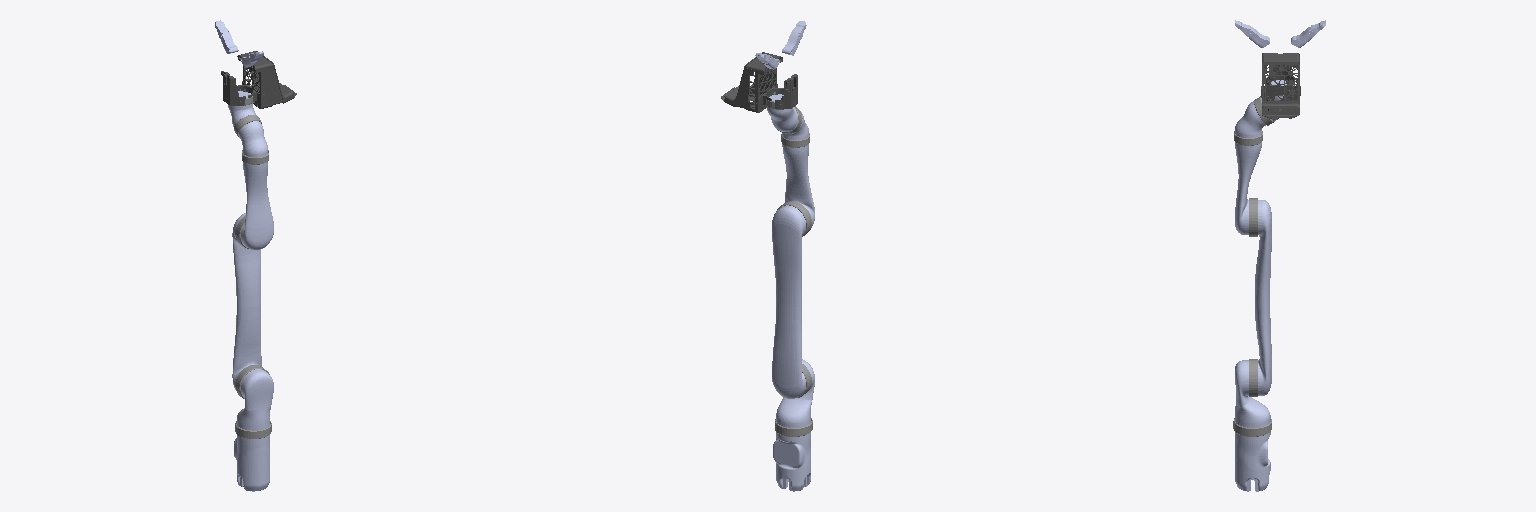
--- What the picture shows (computed from the rendered views, not written in the file) ---
Views: 3 orthographic renders of the robot side by side, from view 1: azimuth 30°, elevation 25°; view 2: azimuth 150°, elevation 25°; view 3: azimuth 270°, elevation 25°.
Robot: ada — 26 links, 25 joints (5 revolute, 4 continuous, 16 fixed); root link root; default pose: joints at zero except 2 at the middle of their limits (j2n6s200_joint_2 = 3.14, j2n6s200_joint_3 = 3.14).
Links seen in each view (by area): view 1: j2n6s200_link_2, j2n6s200_link_3, j2n6s200_link_1, j2n6s200_link_base, j2n6s200_link_4, enclosureBottom, j2n6s200_link_5; view 2: j2n6s200_link_2, j2n6s200_link_base, j2n6s200_link_3, j2n6s200_link_1, j2n6s200_link_5, enclosureTop, enclosureBottom, FTArmMount; view 3: j2n6s200_link_2, j2n6s200_link_base, j2n6s200_link_1, j2n6s200_link_3, j2n6s200_link_4, enclosureBottom, cameraMount, enclosureTop.
Boxes of the visible links, x1,y1,x2,y2 form: j2n6s200_link_2: (232,213,269,398); j2n6s200_link_3: (235,162,273,249); j2n6s200_link_1: (235,369,273,438); j2n6s200_link_base: (234,435,269,491); j2n6s200_link_4: (238,121,268,164); enclosureBottom: (243,51,272,108); j2n6s200_link_5: (228,91,261,136); j2n6s200_link_2: (772,205,811,398); j2n6s200_link_base: (773,432,810,491); j2n6s200_link_3: (777,144,814,236); j2n6s200_link_1: (775,359,814,436); j2n6s200_link_5: (767,94,802,133); enclosureTop: (734,52,772,109); enclosureBottom: (746,52,776,112); FTArmMount: (775,74,797,108); j2n6s200_link_2: (1249,200,1271,396); j2n6s200_link_base: (1235,432,1270,491); j2n6s200_link_1: (1233,360,1271,436); j2n6s200_link_3: (1235,142,1261,236); j2n6s200_link_4: (1234,101,1265,145); enclosureBottom: (1262,56,1299,100); cameraMount: (1262,101,1299,117); enclosureTop: (1262,62,1299,110).
Size in the robot's own frame: 0.1873 by 0.215 by 1.18 metres.
24 mesh visuals loaded from 19 distinct referenced files (7 binary STL, 9 Collada DAE); not drawn: 3 (reference not matched to a file when rendering).

robot.urdf — ada:
<?xml version="1.0" ?>
<!-- =================================================================================== -->
<!-- |    This document was autogenerated by xacro from src/ada_ros2/ada_description/urdf/ada.xacro | -->
<!-- |    EDITING THIS FILE BY HAND IS NOT RECOMMENDED                                 | -->
<!-- =================================================================================== -->
<robot name="ada" xmlns:body="http://playerstage.sourceforge.net/gazebo/xmlschema/#body" xmlns:controller="http://playerstage.sourceforge.net/gazebo/xmlschema/#controller" xmlns:gazebo="http://playerstage.sourceforge.net/gazebo/xmlschema/#gz" xmlns:geom="http://playerstage.sourceforge.net/gazebo/xmlschema/#geom" xmlns:interface="http://playerstage.sourceforge.net/gazebo/xmlschema/#interface" xmlns:joint="http://playerstage.sourceforge.net/gazebo/xmlschema/#joint" xmlns:model="http://playerstage.sourceforge.net/gazebo/xmlschema/#model" xmlns:physics="http://playerstage.sourceforge.net/gazebo/xmlschema/#physics" xmlns:renderable="http://playerstage.sourceforge.net/gazebo/xmlschema/#renderable" xmlns:rendering="http://playerstage.sourceforge.net/gazebo/xmlschema/#rendering" xmlns:sensor="http://playerstage.sourceforge.net/gazebo/xmlschema/#sensor" xmlns:xi="http://www.w3.org/2001/XInclude">
  <material name="aluminum">
    <color rgba="0.4 0.4 0.4 1"/>
  </material>
  <material name="plastic">
    <color rgba="0.1 0.1 0.1 1"/>
  </material>
  <!-- links      		mesh_no
   base           		0
   shoulder       		1
   arm            		2
   forearm        		3
   wrist          		4
   arm_mico       		5
   arm_half1 (7dof)		6
   arm_half2 (7dof)		7
   wrist_spherical_1  8
   wrist_spherical_2  9

   hand 3 finger  		55
   hand_2finger   		56
   finger_proximal		57
   finger_distal      58
-->
  <!-- links      		mesh_no
   base           		0
   shoulder       		1
   arm            		2
   forearm        		3
   wrist          		4
   arm_mico       		5
   arm_half1 (7dof)		6
   arm_half2 (7dof)		7
   wrist_spherical_1  8
   wrist_spherical_2  9

   hand 3 finger  		55
   hand_2finger   		56
   finger_proximal		57
   finger_distal      58
-->
  <link name="root"/>
  <link name="root_tilt"/>
  <joint name="robot_tilt" type="revolute">
    <origin rpy="0 0 0" xyz="0 0 0"/>
    <child link="root_tilt"/>
    <parent link="root"/>
    <axis xyz="-1 0 0"/>
    <!-- effort copied from j2n6s200 joint 2, velocity is max velocity the wheelchair can tilt,
    lower and upper limits generously encompass the range of the wheelchair's tilt-->
    <limit effort="80" lower="-3.141592653589793" upper="3.141592653589793" velocity="0.15"/>
    <dynamics damping="0.0" friction="0.0"/>
  </joint>
  <!-- ros_control plugin -->
  <gazebo>
    <plugin filename="libgazebo_ros_control.so" name="gazebo_ros_control">
      <robotNamespace>j2n6s200</robotNamespace>
      <robotSimType>gazebo_ros_control/DefaultRobotHWSim</robotSimType>
      <legacyModeNS>true</legacyModeNS>
    </plugin>
  </gazebo>
  <link name="j2n6s200_link_base">
    <visual>
      <geometry>
        <mesh filename="package://ada_description/meshes/base.dae"/>
      </geometry>
      <material name="carbon_fiber">
        <color rgba="0.792156862745098 0.819607843137255 0.933333333333333 1"/>
      </material>
    </visual>
    <collision>
      <geometry>
        <mesh filename="package://ada_description/meshes/base.dae"/>
      </geometry>
    </collision>
    <inertial>
      <mass value="0.46784"/>
      <origin rpy="0 0 0" xyz="0 0 0.1255"/>
      <inertia ixx="0.000951270861568" ixy="0" ixz="0" iyy="0.000951270861568" iyz="0" izz="0.00037427200000000004"/>
    </inertial>
  </link>
  <joint name="j2n6s200_joint_base" type="fixed">
    <parent link="root_tilt"/>
    <child link="j2n6s200_link_base"/>
    <axis xyz="0 0 0"/>
    <origin rpy="0 0 0" xyz="0 0 0"/>
    <dynamics damping="0.0" friction="0.0"/>
  </joint>
  <link name="j2n6s200_link_1">
    <visual>
      <geometry>
        <mesh filename="package://ada_description/meshes/shoulder.dae"/>
      </geometry>
      <material name="carbon_fiber">
        <color rgba="0.792156862745098 0.819607843137255 0.933333333333333 1"/>
      </material>
    </visual>
    <visual>
      <geometry>
        <mesh filename="package://ada_description/meshes/ring_big.dae"/>
      </geometry>
    </visual>
    <collision>
      <geometry>
        <mesh filename="package://ada_description/meshes/shoulder.dae"/>
      </geometry>
    </collision>
    <inertial>
      <mass value="0.7477"/>
      <origin xyz="0 -0.002 -0.0605"/>
      <inertia ixx="0.0015203172520400004" ixy="0" ixz="0" iyy="0.0015203172520400004" iyz="0" izz="0.00059816"/>
    </inertial>
  </link>
  <joint name="j2n6s200_joint_1" type="continuous">
    <parent link="j2n6s200_link_base"/>
    <child link="j2n6s200_link_1"/>
    <axis xyz="0 0 1"/>
    <limit effort="40" velocity="0.6283185307179586"/>
    <origin rpy="0 3.141592653589793 0" xyz="0 0 0.15675"/>
    <dynamics damping="0.0" friction="0.0"/>
  </joint>
  <transmission name="j2n6s200_joint_1_trans">
    <type>transmission_interface/SimpleTransmission</type>
    <joint name="j2n6s200_joint_1">
      <hardwareInterface>hardware_interface/EffortJointInterface</hardwareInterface>
    </joint>
    <actuator name="j2n6s200_joint_1_actuator">
      <hardwareInterface>hardware_interface/EffortJointInterface</hardwareInterface>
      <mechanicalReduction>160</mechanicalReduction>
    </actuator>
  </transmission>
  <!--For torque sensing in simulation-->
  <gazebo reference="j2n6s200_joint_1">
    <provideFeedback>true</provideFeedback>
  </gazebo>
  <gazebo>
    <plugin filename="libgazebo_ros_ft_sensor.so" name="ft_sensor">
      <updateRate>30.0</updateRate>
      <topicName>j2n6s200_joint_1_ft_sensor_topic</topicName>
      <jointName>j2n6s200_joint_1</jointName>
    </plugin>
  </gazebo>
  <link name="j2n6s200_link_2">
    <visual>
      <geometry>
        <mesh filename="package://ada_description/meshes/arm.dae"/>
      </geometry>
      <material name="carbon_fiber">
        <color rgba="0.792156862745098 0.819607843137255 0.933333333333333 1"/>
      </material>
    </visual>
    <visual>
      <geometry>
        <mesh filename="package://ada_description/meshes/ring_big.dae"/>
      </geometry>
    </visual>
    <collision>
      <geometry>
        <mesh filename="package://ada_description/meshes/arm.dae"/>
      </geometry>
    </collision>
    <inertial>
      <mass value="0.99"/>
      <origin xyz="0 -0.2065 -0.01"/>
      <inertia ixx="0.010502207990999999" ixy="0" ixz="0" iyy="0.0007920000000000001" iyz="0" izz="0.010502207990999999"/>
    </inertial>
  </link>
  <joint name="j2n6s200_joint_2" type="revolute">
    <parent link="j2n6s200_link_1"/>
    <child link="j2n6s200_link_2"/>
    <axis xyz="0 0 1"/>
    <limit effort="80" lower="0.8203047484373349" upper="5.462880558742252" velocity="0.6283185307179586"/>
    <origin rpy="-1.5707963267948966 0 3.141592653589793" xyz="0 0.0016 -0.11875"/>
    <dynamics damping="0.0" friction="0.0"/>
  </joint>
  <transmission name="j2n6s200_joint_2_trans">
    <type>transmission_interface/SimpleTransmission</type>
    <joint name="j2n6s200_joint_2">
      <hardwareInterface>hardware_interface/EffortJointInterface</hardwareInterface>
    </joint>
    <actuator name="j2n6s200_joint_2_actuator">
      <hardwareInterface>hardware_interface/EffortJointInterface</hardwareInterface>
      <mechanicalReduction>160</mechanicalReduction>
    </actuator>
  </transmission>
  <!--For torque sensing in simulation-->
  <gazebo reference="j2n6s200_joint_2">
    <provideFeedback>true</provideFeedback>
  </gazebo>
  <gazebo>
    <plugin filename="libgazebo_ros_ft_sensor.so" name="ft_sensor">
      <updateRate>30.0</updateRate>
      <topicName>j2n6s200_joint_2_ft_sensor_topic</topicName>
      <jointName>j2n6s200_joint_2</jointName>
    </plugin>
  </gazebo>
  <link name="j2n6s200_link_3">
    <visual>
      <geometry>
        <mesh filename="package://ada_description/meshes/forearm.dae"/>
      </geometry>
      <material name="carbon_fiber">
        <color rgba="0.792156862745098 0.819607843137255 0.933333333333333 1"/>
      </material>
    </visual>
    <visual>
      <geometry>
        <mesh filename="package://ada_description/meshes/ring_big.dae"/>
      </geometry>
    </visual>
    <collision>
      <geometry>
        <mesh filename="package://ada_description/meshes/forearm.dae"/>
      </geometry>
    </collision>
    <inertial>
      <mass value="0.6763"/>
      <origin xyz="0 0.081 -0.0086"/>
      <inertia ixx="0.0014202243190800001" ixy="0" ixz="0" iyy="0.000304335" iyz="0" izz="0.0014202243190800001"/>
    </inertial>
  </link>
  <joint name="j2n6s200_joint_3" type="revolute">
    <parent link="j2n6s200_link_2"/>
    <child link="j2n6s200_link_3"/>
    <axis xyz="0 0 1"/>
    <limit effort="40" lower="0.33161255787892263" upper="5.951572749300664" velocity="0.6283185307179586"/>
    <origin rpy="0 3.141592653589793 0" xyz="0 -0.410 0"/>
    <dynamics damping="0.0" friction="0.0"/>
  </joint>
  <transmission name="j2n6s200_joint_3_trans">
    <type>transmission_interface/SimpleTransmission</type>
    <joint name="j2n6s200_joint_3">
      <hardwareInterface>hardware_interface/EffortJointInterface</hardwareInterface>
    </joint>
    <actuator name="j2n6s200_joint_3_actuator">
      <hardwareInterface>hardware_interface/EffortJointInterface</hardwareInterface>
      <mechanicalReduction>160</mechanicalReduction>
    </actuator>
  </transmission>
  <!--For torque sensing in simulation-->
  <gazebo reference="j2n6s200_joint_3">
    <provideFeedback>true</provideFeedback>
  </gazebo>
  <gazebo>
    <plugin filename="libgazebo_ros_ft_sensor.so" name="ft_sensor">
      <updateRate>30.0</updateRate>
      <topicName>j2n6s200_joint_3_ft_sensor_topic</topicName>
      <jointName>j2n6s200_joint_3</jointName>
    </plugin>
  </gazebo>
  <link name="j2n6s200_link_4">
    <visual>
      <geometry>
        <mesh filename="package://ada_description/meshes/wrist.dae"/>
      </geometry>
      <material name="carbon_fiber">
        <color rgba="0.792156862745098 0.819607843137255 0.933333333333333 1"/>
      </material>
    </visual>
    <visual>
      <geometry>
        <mesh filename="package://ada_description/meshes/ring_small.dae"/>
      </geometry>
    </visual>
    <collision>
      <geometry>
        <mesh filename="package://ada_description/meshes/wrist.dae"/>
      </geometry>
    </collision>
    <inertial>
      <mass value="0.426367"/>
      <origin xyz="0 -0.037 -0.0642"/>
      <inertia ixx="7.734969059999999e-05" ixy="0" ixz="0" iyy="7.734969059999999e-05" iyz="0" izz="0.0001428"/>
    </inertial>
  </link>
  <joint name="j2n6s200_joint_4" type="continuous">
    <parent link="j2n6s200_link_3"/>
    <child link="j2n6s200_link_4"/>
    <axis xyz="0 0 1"/>
    <limit effort="20" velocity="0.8377580409572781"/>
    <origin rpy="-1.5707963267948966 0 3.141592653589793" xyz="0 0.2073 -0.0114"/>
    <dynamics damping="0.0" friction="0.0"/>
  </joint>
  <transmission name="j2n6s200_joint_4_trans">
    <type>transmission_interface/SimpleTransmission</type>
    <joint name="j2n6s200_joint_4">
      <hardwareInterface>hardware_interface/EffortJointInterface</hardwareInterface>
    </joint>
    <actuator name="j2n6s200_joint_4_actuator">
      <hardwareInterface>hardware_interface/EffortJointInterface</hardwareInterface>
      <mechanicalReduction>160</mechanicalReduction>
    </actuator>
  </transmission>
  <!--For torque sensing in simulation-->
  <gazebo reference="j2n6s200_joint_4">
    <provideFeedback>true</provideFeedback>
  </gazebo>
  <gazebo>
    <plugin filename="libgazebo_ros_ft_sensor.so" name="ft_sensor">
      <updateRate>30.0</updateRate>
      <topicName>j2n6s200_joint_4_ft_sensor_topic</topicName>
      <jointName>j2n6s200_joint_4</jointName>
    </plugin>
  </gazebo>
  <link name="j2n6s200_link_5">
    <visual>
      <geometry>
        <mesh filename="package://ada_description/meshes/wrist.dae"/>
      </geometry>
      <material name="carbon_fiber">
        <color rgba="0.792156862745098 0.819607843137255 0.933333333333333 1"/>
      </material>
    </visual>
    <visual>
      <geometry>
        <mesh filename="package://ada_description/meshes/ring_small.dae"/>
      </geometry>
    </visual>
    <collision>
      <geometry>
        <mesh filename="package://ada_description/meshes/wrist.dae"/>
      </geometry>
    </collision>
    <inertial>
      <mass value="0.426367"/>
      <origin xyz="0 -0.037 -0.0642"/>
      <inertia ixx="7.734969059999999e-05" ixy="0" ixz="0" iyy="7.734969059999999e-05" iyz="0" izz="0.0001428"/>
    </inertial>
  </link>
  <joint name="j2n6s200_joint_5" type="continuous">
    <parent link="j2n6s200_link_4"/>
    <child link="j2n6s200_link_5"/>
    <axis xyz="0 0 1"/>
    <limit effort="20" velocity="0.8377580409572781"/>
    <origin rpy="1.0471975511965976 0 3.141592653589793" xyz="0 -0.03703 -0.06414"/>
    <dynamics damping="0.0" friction="0.0"/>
  </joint>
  <transmission name="j2n6s200_joint_5_trans">
    <type>transmission_interface/SimpleTransmission</type>
    <joint name="j2n6s200_joint_5">
      <hardwareInterface>hardware_interface/EffortJointInterface</hardwareInterface>
    </joint>
    <actuator name="j2n6s200_joint_5_actuator">
      <hardwareInterface>hardware_interface/EffortJointInterface</hardwareInterface>
      <mechanicalReduction>160</mechanicalReduction>
    </actuator>
  </transmission>
  <!--For torque sensing in simulation-->
  <gazebo reference="j2n6s200_joint_5">
    <provideFeedback>true</provideFeedback>
  </gazebo>
  <gazebo>
    <plugin filename="libgazebo_ros_ft_sensor.so" name="ft_sensor">
      <updateRate>30.0</updateRate>
      <topicName>j2n6s200_joint_5_ft_sensor_topic</topicName>
      <jointName>j2n6s200_joint_5</jointName>
    </plugin>
  </gazebo>
  <link name="j2n6s200_link_6">
    <visual>
      <geometry>
        <mesh filename="package://ada_description/meshes/hand_2finger.dae"/>
      </geometry>
      <material name="carbon_fiber">
        <color rgba="0.792156862745098 0.819607843137255 0.933333333333333 1"/>
      </material>
    </visual>
    <visual>
      <geometry>
        <mesh filename="package://ada_description/meshes/ring_small.dae"/>
      </geometry>
    </visual>
    <collision>
      <geometry>
        <mesh filename="package://ada_description/meshes/hand_2finger.dae"/>
      </geometry>
    </collision>
    <inertial>
      <mass value="0.78"/>
      <origin xyz="0 0 -0.06"/>
      <inertia ixx="0.00037049851799999997" ixy="0" ixz="0" iyy="0.00037049851799999997" iyz="0" izz="0.0006240000000000001"/>
    </inertial>
  </link>
  <joint name="j2n6s200_joint_6" type="continuous">
    <parent link="j2n6s200_link_5"/>
    <child link="j2n6s200_link_6"/>
    <axis xyz="0 0 1"/>
    <limit effort="20" velocity="0.8377580409572781"/>
    <origin rpy="1.0471975511965976 0 3.141592653589793" xyz="0 -0.03703 -0.06414"/>
    <dynamics damping="0.0" friction="0.0"/>
  </joint>
  <transmission name="j2n6s200_joint_6_trans">
    <type>transmission_interface/SimpleTransmission</type>
    <joint name="j2n6s200_joint_6">
      <hardwareInterface>hardware_interface/EffortJointInterface</hardwareInterface>
    </joint>
    <actuator name="j2n6s200_joint_6_actuator">
      <hardwareInterface>hardware_interface/EffortJointInterface</hardwareInterface>
      <mechanicalReduction>160</mechanicalReduction>
    </actuator>
  </transmission>
  <!--For torque sensing in simulation-->
  <gazebo reference="j2n6s200_joint_6">
    <provideFeedback>true</provideFeedback>
  </gazebo>
  <gazebo>
    <plugin filename="libgazebo_ros_ft_sensor.so" name="ft_sensor">
      <updateRate>30.0</updateRate>
      <topicName>j2n6s200_joint_6_ft_sensor_topic</topicName>
      <jointName>j2n6s200_joint_6</jointName>
    </plugin>
  </gazebo>
  <link name="j2n6s200_end_effector"/>
  <joint name="j2n6s200_joint_end_effector" type="fixed">
    <parent link="j2n6s200_link_6"/>
    <child link="j2n6s200_end_effector"/>
    <axis xyz="0 0 0"/>
    <origin rpy="3.141592653589793 0 1.5707963267948966" xyz="0 0 -0.1600"/>
  </joint>
  <link name="j2n6s200_link_finger_1">
    <visual>
      <geometry>
        <mesh filename="package://ada_description/meshes/finger_proximal.dae"/>
      </geometry>
      <material name="carbon_fiber">
        <color rgba="0.792156862745098 0.819607843137255 0.933333333333333 1"/>
      </material>
    </visual>
    <collision>
      <geometry>
        <mesh filename="package://ada_description/meshes/finger_proximal.dae"/>
      </geometry>
    </collision>
    <inertial>
      <mass value="0.01"/>
      <origin xyz="0.022 0 0"/>
      <inertia ixx="7.8999684e-07" ixy="0" ixz="0" iyy="7.8999684e-07" iyz="0" izz="8e-08"/>
    </inertial>
  </link>
  <joint name="j2n6s200_joint_finger_1" type="revolute">
    <parent link="j2n6s200_link_6"/>
    <child link="j2n6s200_link_finger_1"/>
    <axis xyz="0 0 1"/>
    <origin rpy="-1.570796327 .649262481663582 1.57079632679490" xyz="-0.0025 0.03095 -0.11482"/>
    <limit effort="2" lower="0" upper="1.51" velocity="1"/>
  </joint>
  <transmission name="j2n6s200_joint_finger_1_trans">
    <type>transmission_interface/SimpleTransmission</type>
    <joint name="j2n6s200_joint_finger_1">
      <hardwareInterface>hardware_interface/EffortJointInterface</hardwareInterface>
    </joint>
    <actuator name="j2n6s200_joint_finger_1_actuator">
      <hardwareInterface>hardware_interface/EffortJointInterface</hardwareInterface>
      <mechanicalReduction>1</mechanicalReduction>
    </actuator>
  </transmission>
  <link name="j2n6s200_link_finger_tip_1">
    <visual>
      <geometry>
        <mesh filename="package://ada_description/meshes/finger_distal.dae"/>
      </geometry>
      <material name="carbon_fiber">
        <color rgba="0.792156862745098 0.819607843137255 0.933333333333333 1"/>
      </material>
    </visual>
    <collision>
      <geometry>
        <mesh filename="package://ada_description/meshes/finger_distal.dae"/>
      </geometry>
    </collision>
    <inertial>
      <mass value="0.01"/>
      <origin xyz="0.022 0 0"/>
      <inertia ixx="7.8999684e-07" ixy="0" ixz="0" iyy="7.8999684e-07" iyz="0" izz="8e-08"/>
    </inertial>
  </link>
  <joint name="j2n6s200_joint_finger_tip_1" type="fixed">
    <parent link="j2n6s200_link_finger_1"/>
    <child link="j2n6s200_link_finger_tip_1"/>
    <axis xyz="0 0 1"/>
    <origin rpy="0 0 0" xyz="0.044 -0.003 0"/>
    <limit effort="2" lower="0" upper="2" velocity="1"/>
  </joint>
  <transmission name="j2n6s200_joint_finger_tip_1_trans">
    <type>transmission_interface/SimpleTransmission</type>
    <joint name="j2n6s200_joint_finger_tip_1">
      <hardwareInterface>hardware_interface/EffortJointInterface</hardwareInterface>
    </joint>
    <actuator name="j2n6s200_joint_finger_tip_1_actuator">
      <hardwareInterface>hardware_interface/EffortJointInterface</hardwareInterface>
      <mechanicalReduction>1</mechanicalReduction>
    </actuator>
  </transmission>
  <link name="j2n6s200_link_finger_2">
    <visual>
      <geometry>
        <mesh filename="package://ada_description/meshes/finger_proximal.dae"/>
      </geometry>
      <material name="carbon_fiber">
        <color rgba="0.792156862745098 0.819607843137255 0.933333333333333 1"/>
      </material>
    </visual>
    <collision>
      <geometry>
        <mesh filename="package://ada_description/meshes/finger_proximal.dae"/>
      </geometry>
    </collision>
    <inertial>
      <mass value="0.01"/>
      <origin xyz="0.022 0 0"/>
      <inertia ixx="7.8999684e-07" ixy="0" ixz="0" iyy="7.8999684e-07" iyz="0" izz="8e-08"/>
    </inertial>
  </link>
  <joint name="j2n6s200_joint_finger_2" type="revolute">
    <parent link="j2n6s200_link_6"/>
    <child link="j2n6s200_link_finger_2"/>
    <axis xyz="0 0 1"/>
    <origin rpy="-1.570796327 .649262481663582 -1.57079632679490" xyz="-0.0025 -0.03095 -0.11482"/>
    <limit effort="2" lower="0" upper="1.51" velocity="1"/>
  </joint>
  <transmission name="j2n6s200_joint_finger_2_trans">
    <type>transmission_interface/SimpleTransmission</type>
    <joint name="j2n6s200_joint_finger_2">
      <hardwareInterface>hardware_interface/EffortJointInterface</hardwareInterface>
    </joint>
    <actuator name="j2n6s200_joint_finger_2_actuator">
      <hardwareInterface>hardware_interface/EffortJointInterface</hardwareInterface>
      <mechanicalReduction>1</mechanicalReduction>
    </actuator>
  </transmission>
  <link name="j2n6s200_link_finger_tip_2">
    <visual>
      <geometry>
        <mesh filename="package://ada_description/meshes/finger_distal.dae"/>
      </geometry>
      <material name="carbon_fiber">
        <color rgba="0.792156862745098 0.819607843137255 0.933333333333333 1"/>
      </material>
    </visual>
    <collision>
      <geometry>
        <mesh filename="package://ada_description/meshes/finger_distal.dae"/>
      </geometry>
    </collision>
    <inertial>
      <mass value="0.01"/>
      <origin xyz="0.022 0 0"/>
      <inertia ixx="7.8999684e-07" ixy="0" ixz="0" iyy="7.8999684e-07" iyz="0" izz="8e-08"/>
    </inertial>
  </link>
  <joint name="j2n6s200_joint_finger_tip_2" type="fixed">
    <parent link="j2n6s200_link_finger_2"/>
    <child link="j2n6s200_link_finger_tip_2"/>
    <axis xyz="0 0 1"/>
    <origin rpy="0 0 0" xyz="0.044 -0.003 0"/>
    <limit effort="2" lower="0" upper="2" velocity="1"/>
  </joint>
  <transmission name="j2n6s200_joint_finger_tip_2_trans">
    <type>transmission_interface/SimpleTransmission</type>
    <joint name="j2n6s200_joint_finger_tip_2">
      <hardwareInterface>hardware_interface/EffortJointInterface</hardwareInterface>
    </joint>
    <actuator name="j2n6s200_joint_finger_tip_2_actuator">
      <hardwareInterface>hardware_interface/EffortJointInterface</hardwareInterface>
      <mechanicalReduction>1</mechanicalReduction>
    </actuator>
  </transmission>
  <link name="nanoMount">
    <visual>
      <geometry>
        <mesh filename="package://ada_description/meshes/camera/2023_03_09_nanoArmMount.stl" scale="0.001 0.001 0.001"/>
      </geometry>
      <material name="abs">
        <color rgba="0.4 0.4 0.4 1"/>
      </material>
    </visual>
    <collision>
      <geometry>
        <mesh filename="package://ada_description/meshes/camera/2023_03_09_nanoArmMount.stl" scale="0.001 0.001 0.001"/>
      </geometry>
    </collision>
    <inertial>
      <origin rpy="0 0 0" xyz="-0.002400 0.0046958 0.0115245"/>
      <mass value="0.008"/>
      <inertia ixx="0.00000095025" ixy="-0.000000297842" ixz="-0.00000000010444" iyy="0.0000067325" iyz="0.000000000470196" izz="0.0000069433"/>
    </inertial>
  </link>
  <joint name="nanoMount_to_world" type="fixed">
    <parent link="j2n6s200_link_6"/>
    <child link="nanoMount"/>
    <axis xyz="0 0 1"/>
    <origin rpy="4.71238898038469 0 4.71238898038469" xyz="0.0165 0 0.0011"/>
  </joint>
  <link name="enclosureBottom">
    <visual>
      <geometry>
        <mesh filename="package://ada_description/meshes/camera/2023_09_28_nanoEnclosureBottom.stl" scale="0.001 0.001 0.001"/>
      </geometry>
      <material name="abs">
        <color rgba="0.4 0.4 0.4 1"/>
      </material>
    </visual>
    <collision>
      <geometry>
        <mesh filename="package://ada_description/meshes/camera/2023_09_28_nanoEnclosureBottom.stl" scale="0.001 0.001 0.001"/>
      </geometry>
    </collision>
    <inertial>
      <origin rpy="0 0 0" xyz="0.0546451 0.0472161 0.00043655"/>
      <mass value="0.04"/>
      <inertia ixx="0.000041028" ixy="-0.000000324" ixz="-0.00000045367" iyy="0.000083168" iyz="0.0000026243" izz="0.000116424"/>
    </inertial>
  </link>
  <joint name="enclosureBottom_to_nanoMount" type="fixed">
    <parent link="nanoMount"/>
    <child link="enclosureBottom"/>
    <axis xyz="0 0 1"/>
    <origin rpy="0 0 1.5707963267948966" xyz="0.0412 -0.0218 0.026"/>
  </joint>
  <link name="nano">
    <visual>
      <geometry>
        <mesh filename="package://ada_description/meshes/camera/2023_03_21_jetsonNano.stl" scale="0.001 0.001 0.001"/>
      </geometry>
      <material name="abs">
        <color rgba="0.4 0.4 0.4 1"/>
      </material>
    </visual>
    <collision>
      <geometry>
        <mesh filename="package://ada_description/meshes/camera/2023_03_21_jetsonNano.stl" scale="0.001 0.001 0.001"/>
      </geometry>
    </collision>
    <inertial>
      <origin rpy="0 0 0" xyz="0.0435615 0.02502709 0.0091247"/>
      <mass value="0.142"/>
      <inertia ixx="0.000077456" ixy="-0.000004935" ixz="0.0000015461" iyy="0.0001013" iyz="0.0000036951" izz="0.0001727"/>
    </inertial>
  </link>
  <joint name="nano_to_enclosureBottom" type="fixed">
    <parent link="enclosureBottom"/>
    <child link="nano"/>
    <axis xyz="0 0 1"/>
    <origin rpy="0 0 0" xyz="0.0105 0.014 -0.0015"/>
  </joint>
  <link name="frontStabilizer">
    <visual>
      <geometry>
        <mesh filename="package://ada_description/meshes/camera/2023_09_21_nanoEnclosureFrontStabilizer.stl" scale="0.001 0.001 0.001"/>
      </geometry>
      <material name="abs">
        <color rgba="0.4 0.4 0.4 1"/>
      </material>
    </visual>
    <collision>
      <geometry>
        <mesh filename="package://ada_description/meshes/camera/2023_09_21_nanoEnclosureFrontStabilizer.stl" scale="0.001 0.001 0.001"/>
      </geometry>
    </collision>
    <inertial>
      <origin rpy="0 0 0" xyz="-0.008107 -0.000955 0.02045"/>
      <mass value="0.0198"/>
      <inertia ixx="0.00000074776" ixy="0.000000000071856" ixz="0.0000000002764" iyy="0.0000118843" iyz="0.00000001021778" izz="0.0000119096"/>
    </inertial>
  </link>
  <joint name="frontStabilizer_to_enclosureBottom" type="fixed">
    <parent link="enclosureBottom"/>
    <child link="frontStabilizer"/>
    <axis xyz="0 0 1"/>
    <origin rpy="0 0 1.5707963267948966" xyz="0.1063 0.0493 -0.0363"/>
  </joint>
  <link name="enclosureTop">
    <visual>
      <geometry>
        <mesh filename="package://ada_description/meshes/camera/2023_06_06_nanoEnclosureTopCameraBack.stl" scale="0.001 0.001 0.001"/>
      </geometry>
      <material name="abs">
        <color rgba="0.4 0.4 0.4 1"/>
      </material>
    </visual>
    <collision>
      <geometry>
        <mesh filename="package://ada_description/meshes/camera/2023_06_06_nanoEnclosureTopCameraBack.stl" scale="0.001 0.001 0.001"/>
      </geometry>
    </collision>
    <inertial>
      <origin rpy="0 0 0" xyz="0.041228 0.006275 0.016379"/>
      <mass value="0.046"/>
      <inertia ixx="0.00005942" ixy="-0.000000046193" ixz="0.0000091699" iyy="0.000085611" iyz="0.0000012783" izz="0.000126390"/>
    </inertial>
  </link>
  <joint name="enclosureTop_to_enclosureBottom" type="fixed">
    <parent link="enclosureBottom"/>
    <child link="enclosureTop"/>
    <axis xyz="0 0 1"/>
    <origin rpy="0 2.886774582798621 3.141592653589793" xyz="0.009925 0.04099 0.05442"/>
  </joint>
  <link name="cameraMount">
    <visual>
      <geometry>
        <mesh filename="package://ada_description/meshes/camera/2023_06_06_cameraBackMount.stl" scale="0.001 0.001 0.001"/>
      </geometry>
      <material name="abs">
        <color rgba="0.4 0.4 0.4 1"/>
      </material>
    </visual>
    <collision>
      <geometry>
        <mesh filename="package://ada_description/meshes/camera/2023_06_06_cameraBackMount.stl" scale="0.001 0.001 0.001"/>
      </geometry>
    </collision>
    <inertial>
      <origin rpy="0 0 0" xyz="-0.007986 0 0.010064"/>
      <mass value="0.004"/>
      <inertia ixx="0.000002782" ixy="-0.00000000002321" ixz="0.000000074385" iyy="00.0000005528" iyz="-0.00000000000178" izz="0.000002964"/>
    </inertial>
  </link>
  <joint name="cameraMount_to_enclosureTop" type="fixed">
    <parent link="enclosureTop"/>
    <child link="cameraMount"/>
    <axis xyz="0 0 1"/>
    <origin rpy="0 1.5707963267948966 0" xyz="-0.0132 0 -0.022"/>
  </joint>
  <link name="screwHeadLeft">
    <visual>
      <geometry>
        <mesh filename="package://ada_description/meshes/camera/2023_11_07_screwHead.stl" scale="0.001 0.001 0.001"/>
      </geometry>
      <material name="abs">
        <color rgba="0.4 0.4 0.4 1"/>
      </material>
    </visual>
    <collision>
      <geometry>
        <mesh filename="package://ada_description/meshes/camera/2023_11_07_screwHead.stl" scale="0.001 0.001 0.001"/>
      </geometry>
    </collision>
    <inertial>
      <origin rpy="0 0 0" xyz="0 0 0.0015"/>
      <mass value="0.0001"/>
      <inertia ixx="0.000000000342785" ixy="0" ixz="0" iyy="0.000000000342785" iyz="0" izz="0.000000000543538"/>
    </inertial>
  </link>
  <joint name="screwHeadLeft_to_cameraMount" type="fixed">
    <parent link="cameraMount"/>
    <child link="screwHeadLeft"/>
    <axis xyz="0 0 1"/>
    <origin rpy="3.141592653589793 0 0" xyz="0.0165 -0.0225 0"/>
  </joint>
  <link name="screwHeadRight">
    <visual>
      <geometry>
        <mesh filename="package://ada_description/meshes/camera/2023_11_07_screwHead.stl" scale="0.001 0.001 0.001"/>
      </geometry>
      <material name="abs">
        <color rgba="0.4 0.4 0.4 1"/>
      </material>
    </visual>
    <collision>
      <geometry>
        <mesh filename="package://ada_description/meshes/camera/2023_11_07_screwHead.stl" scale="0.001 0.001 0.001"/>
      </geometry>
    </collision>
    <inertial>
      <origin rpy="0 0 0" xyz="0 0 0.0015"/>
      <mass value="0.0001"/>
      <inertia ixx="0.000000000342785" ixy="0" ixz="0" iyy="0.000000000342785" iyz="0" izz="0.000000000543538"/>
    </inertial>
  </link>
  <joint name="screwHeadRight_to_cameraMount" type="fixed">
    <parent link="cameraMount"/>
    <child link="screwHeadRight"/>
    <axis xyz="0 0 1"/>
    <origin rpy="3.141592653589793 0 0" xyz="0.0165 0.0225 0"/>
  </joint>
  <!-- camera body, with origin at bottom screw mount -->
  <joint name="uncalibrated_camera_joint" type="fixed">
    <origin rpy="0 -1.5707963267948966 3.141592653589793" xyz="0.006 0 0.013"/>
    <parent link="cameraMount"/>
    <child link="uncalibrated_camera_bottom_screw_frame"/>
  </joint>
  <link name="uncalibrated_camera_bottom_screw_frame"/>
  <joint name="uncalibrated_camera_link_joint" type="fixed">
    <origin rpy="0 0 0" xyz="0 0.02 0.0115"/>
    <parent link="uncalibrated_camera_bottom_screw_frame"/>
    <child link="uncalibrated_camera_link"/>
  </joint>
  <link name="uncalibrated_camera_link">
    <visual>
      <origin rpy="1.5707963267948966 0 1.5707963267948966" xyz="0.00987 -0.02 0"/>
      <geometry>
        <mesh filename="package://ada_description/meshes/camera/d415.stl"/>
      </geometry>
      <material name="aluminum"/>
    </visual>
    <collision>
      <origin rpy="0 0 0" xyz="0 -0.02 0"/>
      <geometry>
        <box size="0.02005 0.099 0.023"/>
      </geometry>
    </collision>
    <inertial>
      <mass value="0.0589"/>
      <!-- manufacturer's value: 0.072 -->
      <origin xyz="0 -0.02 0"/>
      <inertia ixx="0.00005491" ixy="-0.0000000249492" ixz="0.00000004862028" iyy="0.00000521068" iyz="0.00000000857625" izz="0.0000554597"/>
    </inertial>
  </link>
  <!-- Hard-coded Extrinsics -->
  <link name="camera_link"/>
  <joint name="extrinsics" type="fixed">
    <origin rpy="0.17234 -1.56127 2.96967" xyz="0.0194 -0.01606 0.029014"/>
    <parent link="cameraMount"/>
    <child link="camera_link"/>
  </joint>
  <!-- Copy Realsense in case of simulation -->
  <!--
  <link name="camera_color_optical_frame" />
  <joint name="optical_republish" type="fixed">
    <origin xyz="0.000 -0.015 0.000" rpy="-1.564 0.000 -1.573" />
    <parent link="camera_link" />
    <child link="camera_color_optical_frame" />
  </joint>
  -->
  <link name="FTArmMount">
    <visual>
      <geometry>
        <mesh filename="package://ada_description/meshes/forque/2024_01_18_FTArmMount.stl" scale="0.001 0.001 0.001"/>
      </geometry>
      <material name="abs">
        <color rgba="0.4 0.4 0.4 1"/>
      </material>
    </visual>
    <collision>
      <geometry>
        <mesh filename="package://ada_description/meshes/forque/2024_01_18_FTArmMount.stl" scale="0.001 0.001 0.001"/>
      </geometry>
    </collision>
    <inertial>
      <origin rpy="0 0 0" xyz="0.010957 -0.019223 -0.03777"/>
      <mass value="0.03783"/>
      <inertia ixx="0.000018817" ixy="-0.0000003327" ixz="-0.000000092476" iyy="0.00001119989" iyz="-0.00000120296" izz="0.000026883"/>
    </inertial>
  </link>
  <joint name="FTArmMount_to_arm" type="fixed">
    <parent link="j2n6s200_link_6"/>
    <child link="FTArmMount"/>
    <axis xyz="0 0 1"/>
    <origin rpy="1.5707963267948966 0 1.5707963267948966" xyz="0.0065 -0.011 -0.0075"/>
  </joint>
</robot>
